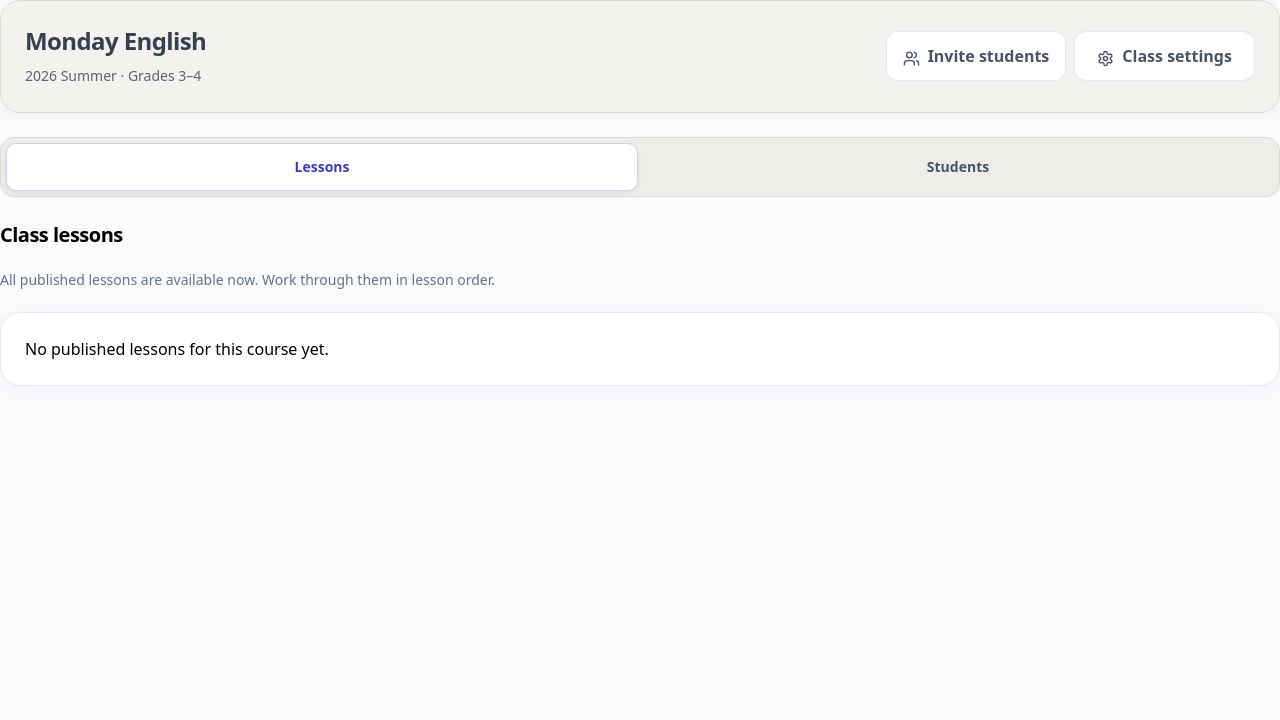
Test: class settings stays above the tabs and outside lesson content, and still saves the selected course
The image size is (1280, 720).
Check: the text "2026 Summer · Grades 3–4" is shown, box [25,65,206,88]
Step 1. Click the button "Class settings" → coordinates (1165, 56), box [1074,31,1255,81]
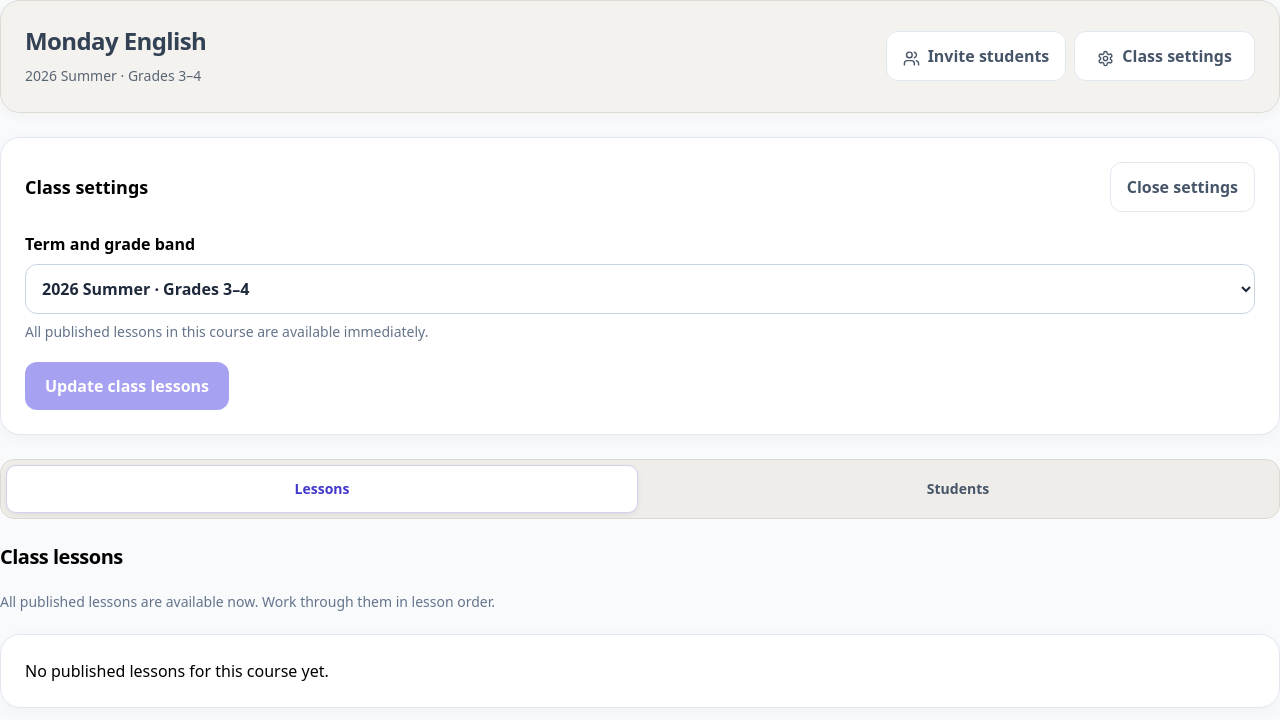
Step 2. Click the button "Students" → coordinates (958, 489), box [642,465,1274,513]
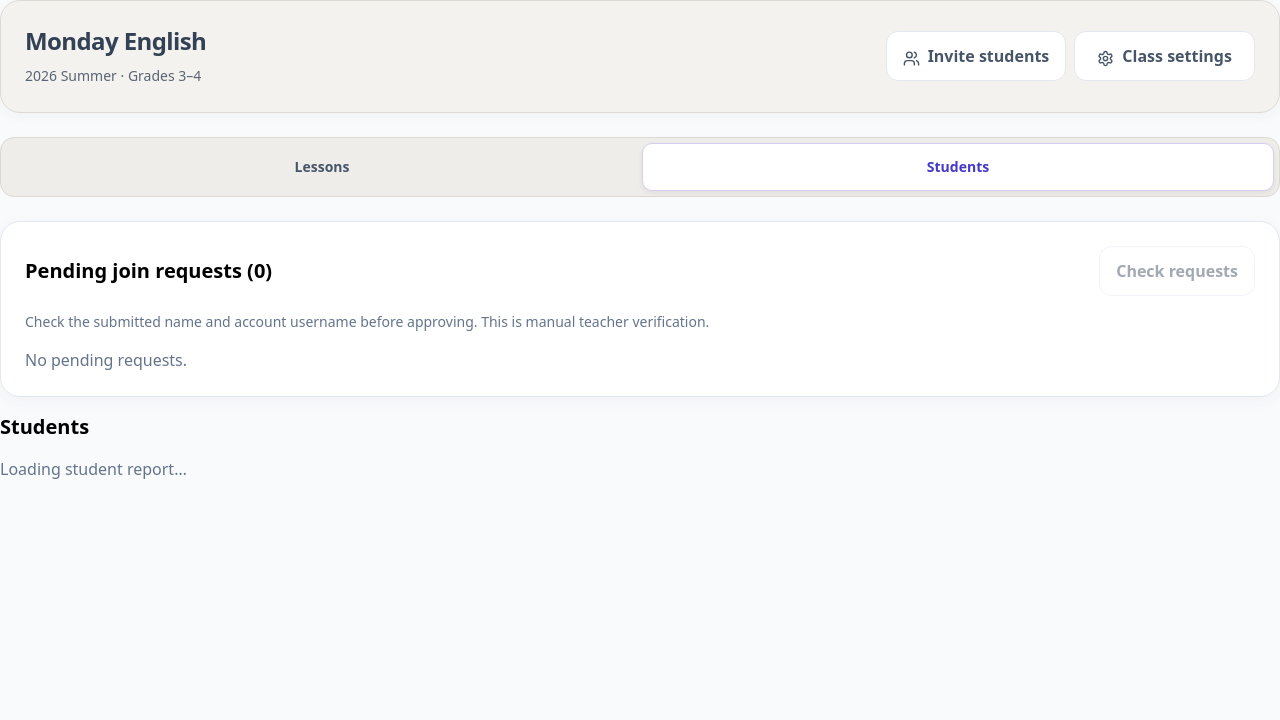
Check: the label "Term and grade band" is gone
Step 3. Click the button "Lessons" → coordinates (322, 167), box [6,143,638,191]
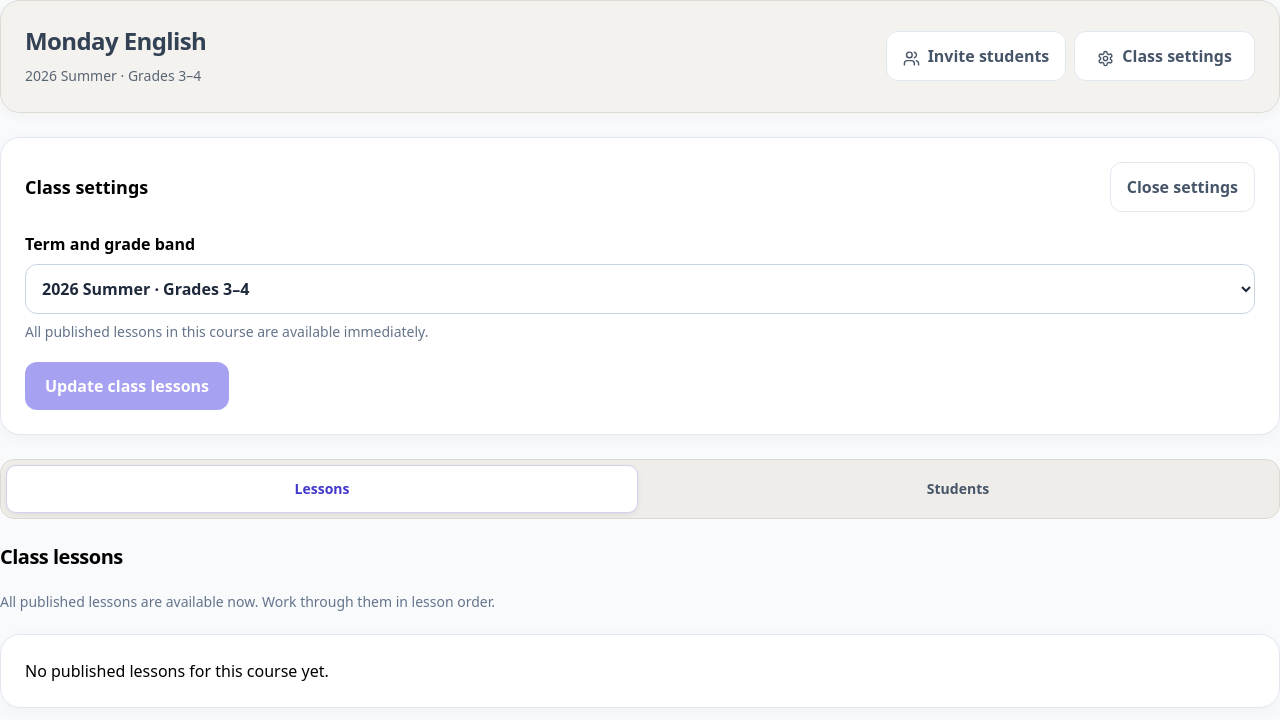
Check: the button "Update class lessons" is disabled, box [25,362,229,410]
Step 4. Select "2026 Autumn · Grades 3–4" in the dropdown labelled "Term and grade band" → coordinates (640, 289), box [25,264,1255,314]
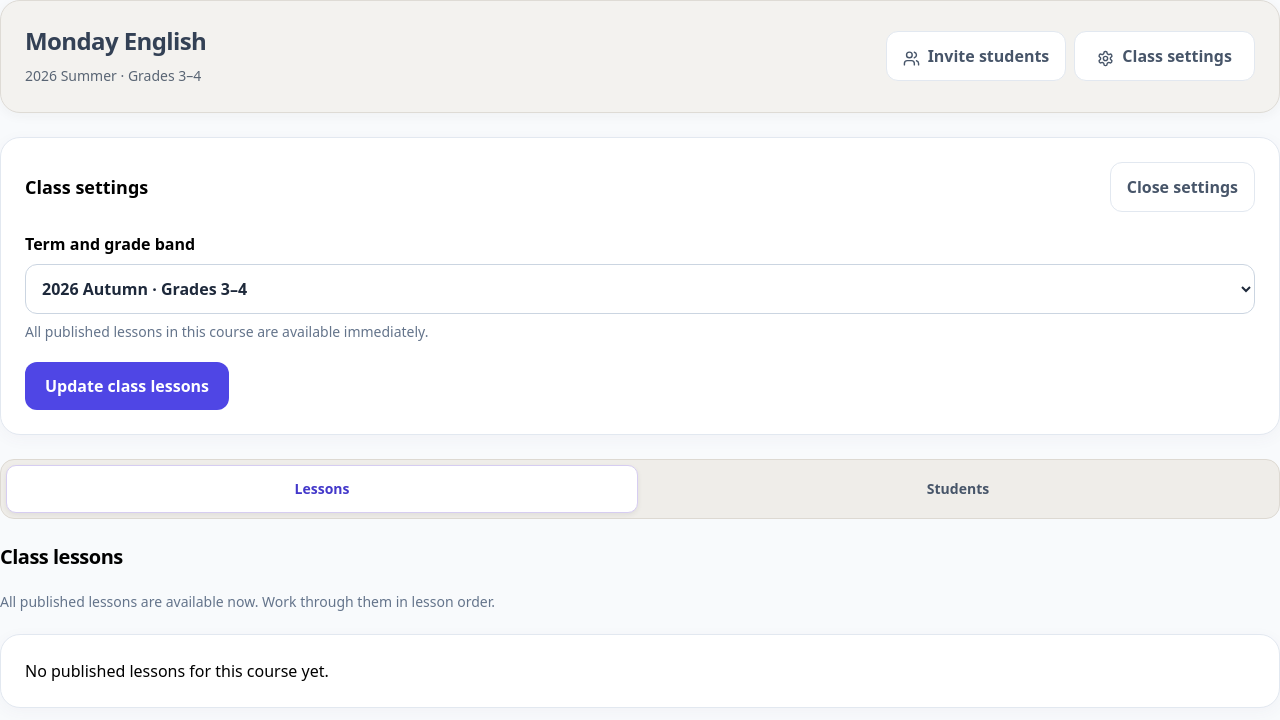
Step 5. Click the button "Update class lessons" → coordinates (127, 386), box [25,362,229,410]
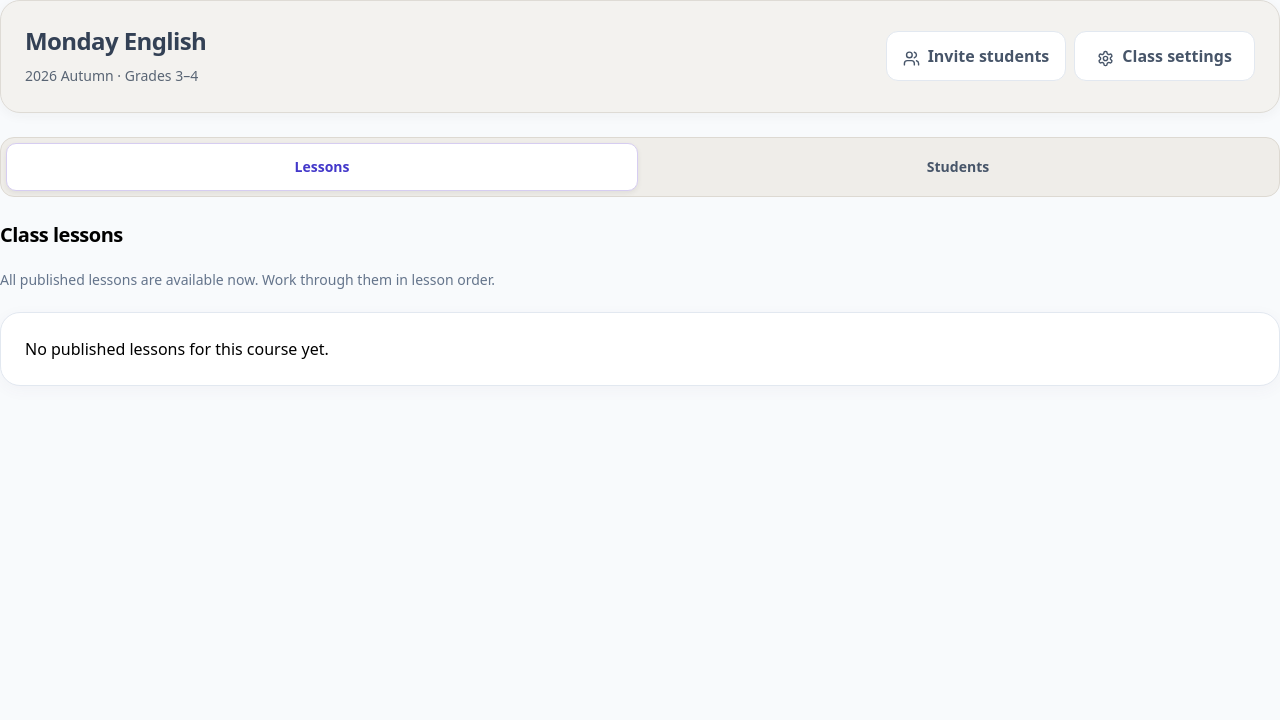
Check: the button "Close settings" is gone
Check: the text "2026 Autumn · Grades 3–4" is shown, box [25,65,206,88]
